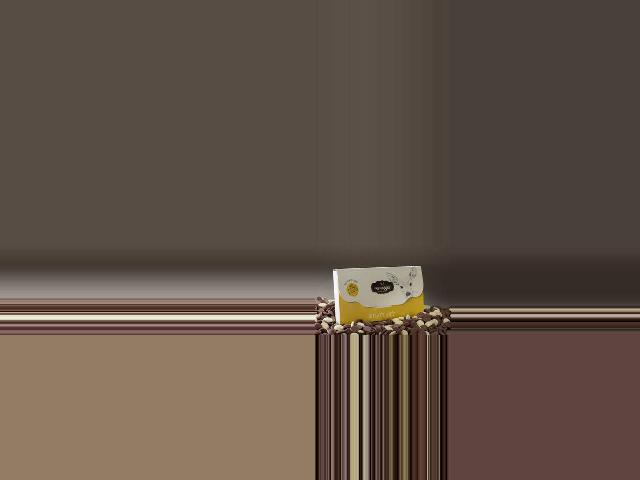chocolate: (328, 262, 429, 327)
